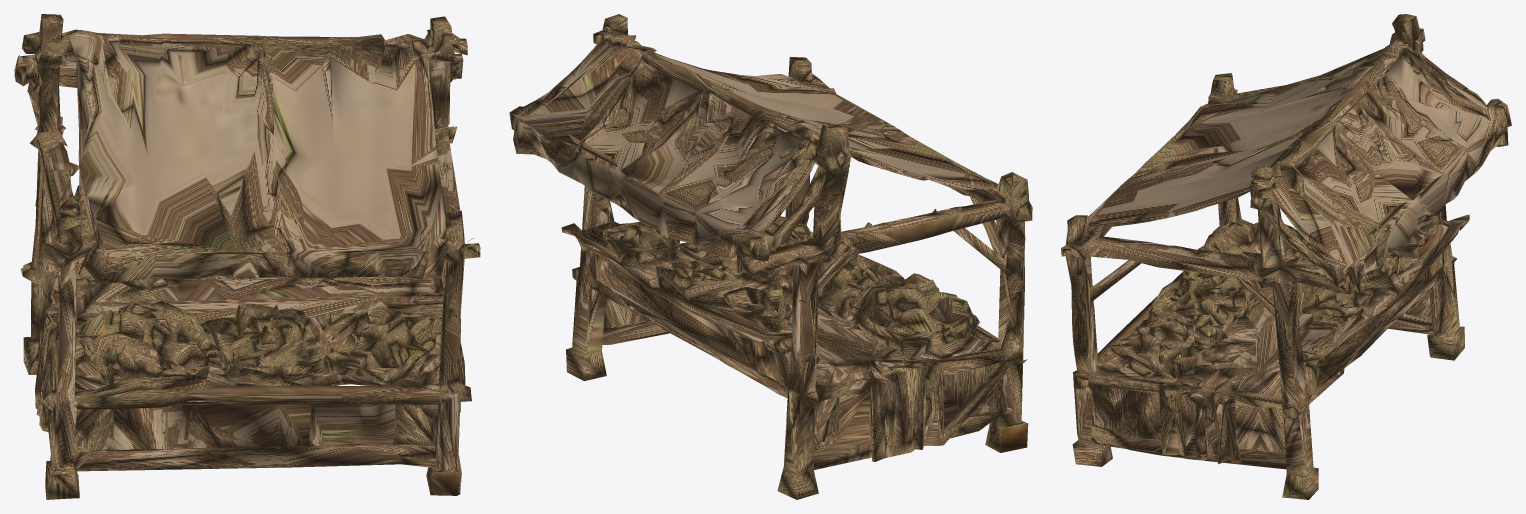
File: vegetable-market-stall-pixal3d.glb
3 renders of one model, left to right at view 1: azimuth 30°, elevation 25°; view 2: azimuth 150°, elevation 25°; view 3: azimuth 270°, elevation 25°, orthographic. The views are drawn at different scales.
Parts seen in each view (by area): view 1: geometry_0; view 2: geometry_0; view 3: geometry_0.
Part boxes in pixels (x1=…): geometry_0: x1=14, y1=14, x2=480, y2=499; geometry_0: x1=509, y1=14, x2=1032, y2=499; geometry_0: x1=1061, y1=14, x2=1511, y2=499.
Bounding box in the file's own units: 3.57 × 2.78 × 3.24.
1 material, 1 textured.
